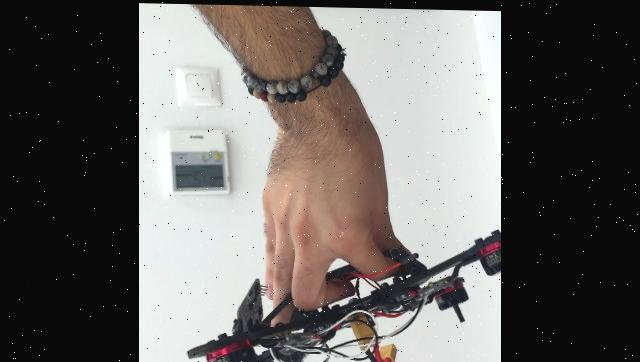drone: (180, 216, 500, 362)
